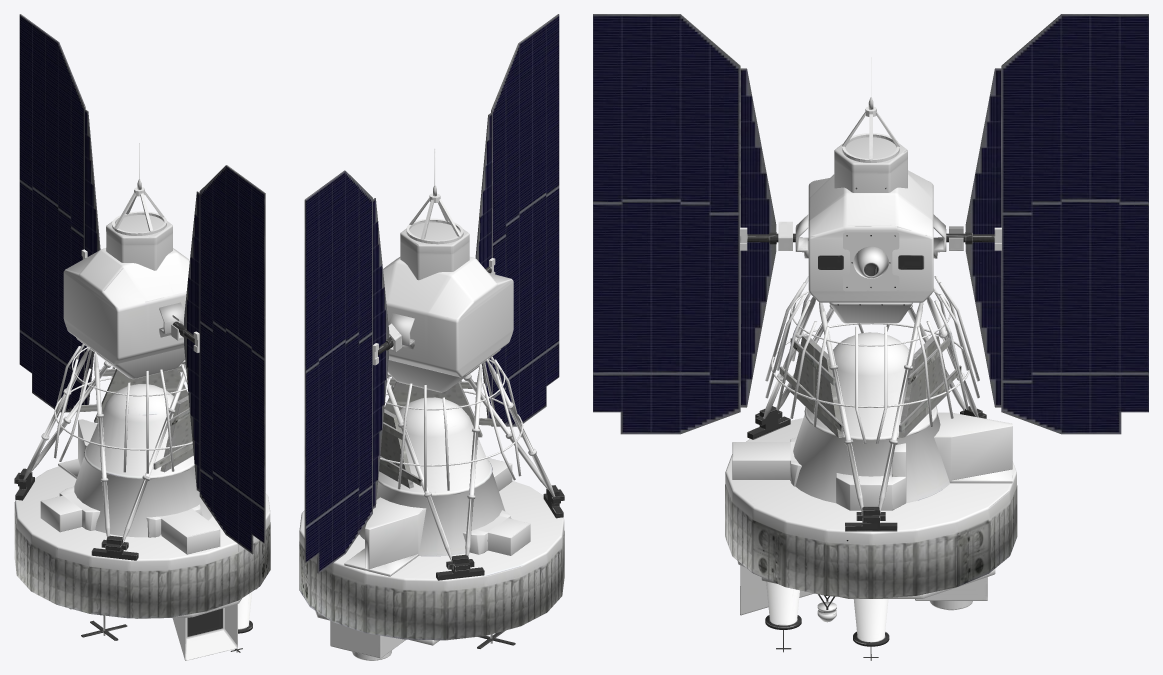
The model's file is landsat-1-2-and-3.glb.
The picture shows the model from 3 angles, left to right: view 1: azimuth 30°, elevation 25°; view 2: azimuth 150°, elevation 25°; view 3: azimuth 270°, elevation 25°; orthographic projection. The views are drawn at different scales.
Parts seen in each view (by area): view 1: L1_Baked; view 2: L1_Baked; view 3: L1_Baked.
Part boxes in pixels (x1,y1,x2,y2): L1_Baked: (14,14,270,660); L1_Baked: (299,14,564,660); L1_Baked: (593,14,1148,660).
Size of the model in its own units: 2.02 by 4.58 by 3.81.
1 material, 1 textured.
